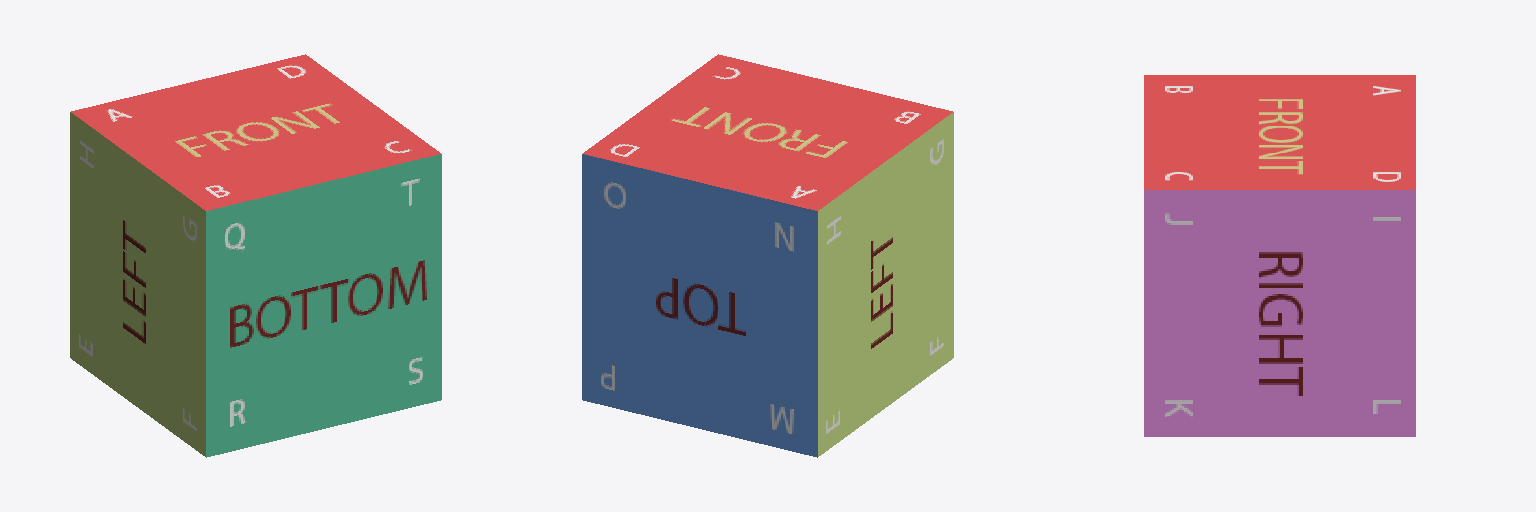
3 views of the same model, side by side, from view 1: azimuth 30°, elevation 25°; view 2: azimuth 150°, elevation 25°; view 3: azimuth 270°, elevation 25° (orthographic).
Parts seen in each view (by area): view 1: Cube; view 2: Cube; view 3: Cube.
Part boxes in pixels (bbox=[...]): Cube: bbox=[70, 54, 441, 457]; Cube: bbox=[582, 54, 953, 457]; Cube: bbox=[1144, 75, 1415, 436].
Bounding box in the file's own units: 2 × 2 × 2.
Materials: 1 (1 with a texture image).